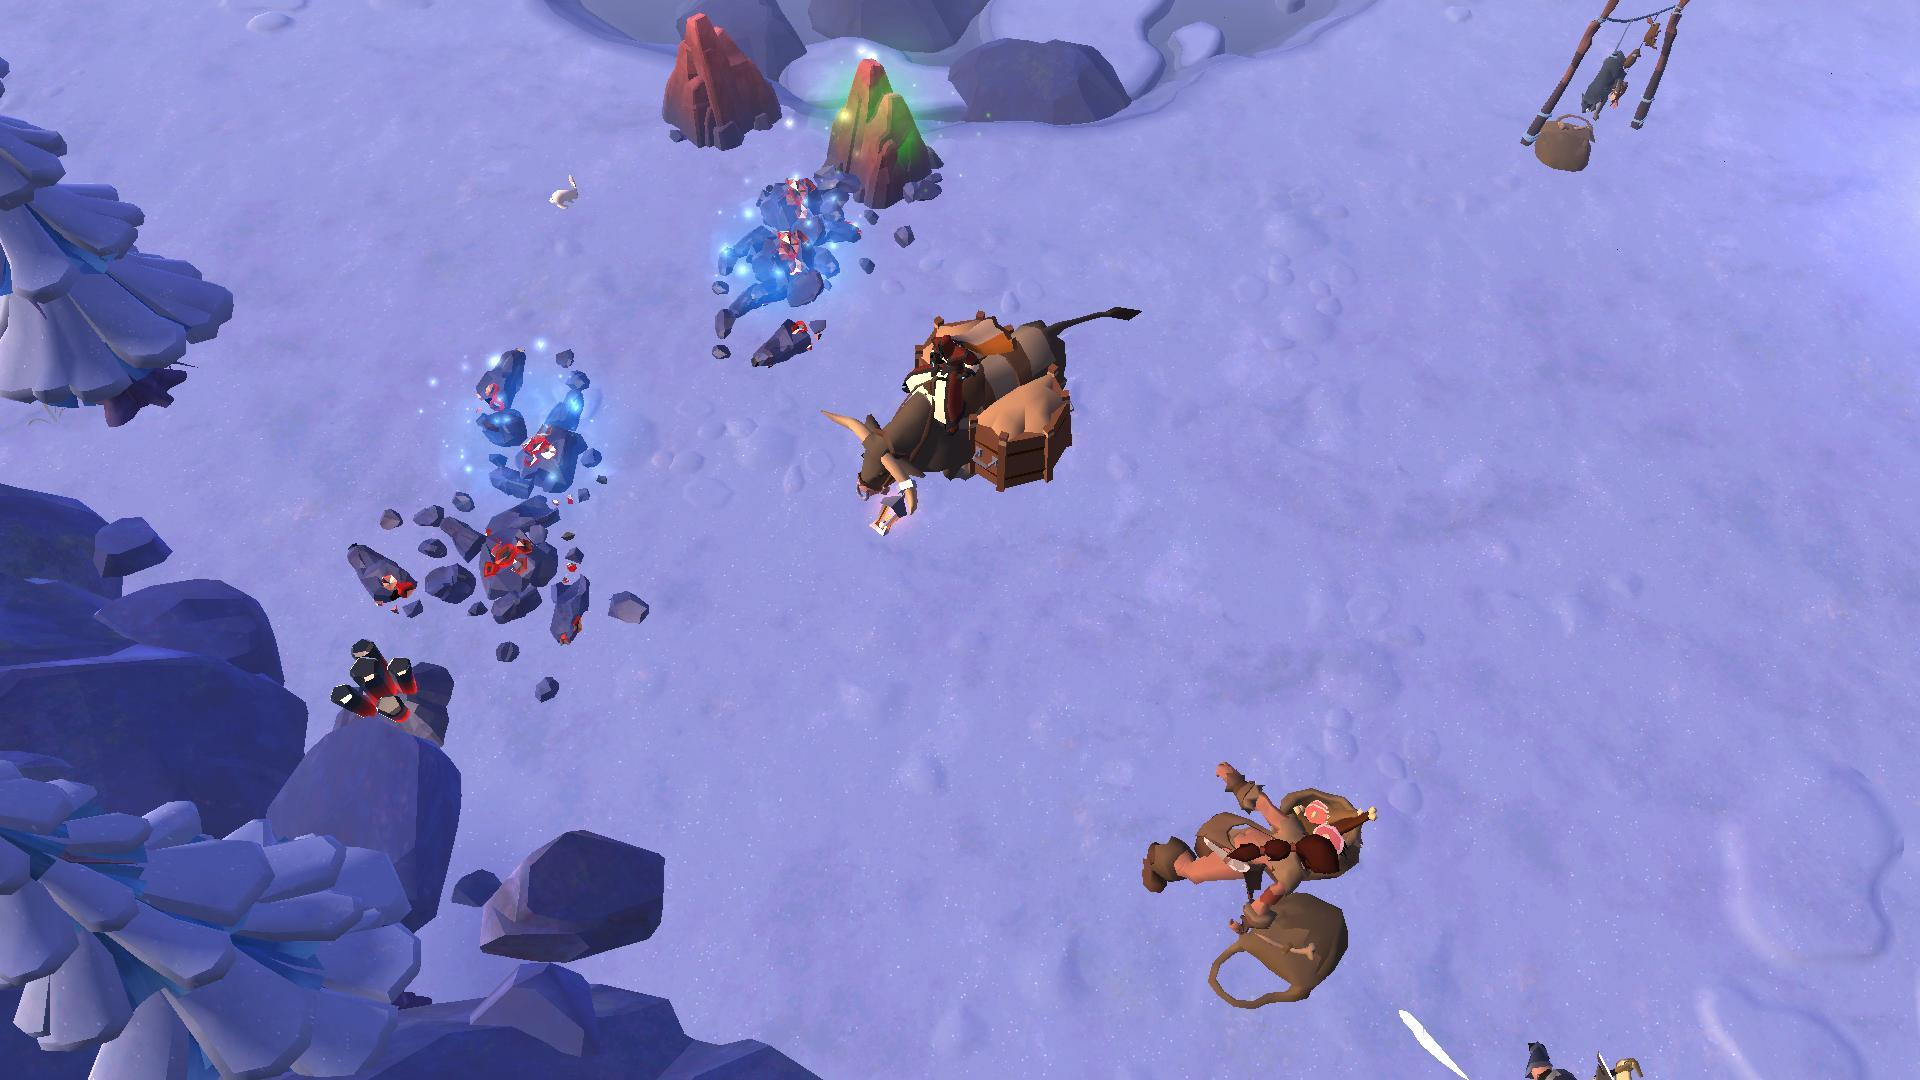rock_t5: (816, 50, 940, 216), (655, 12, 787, 150)
